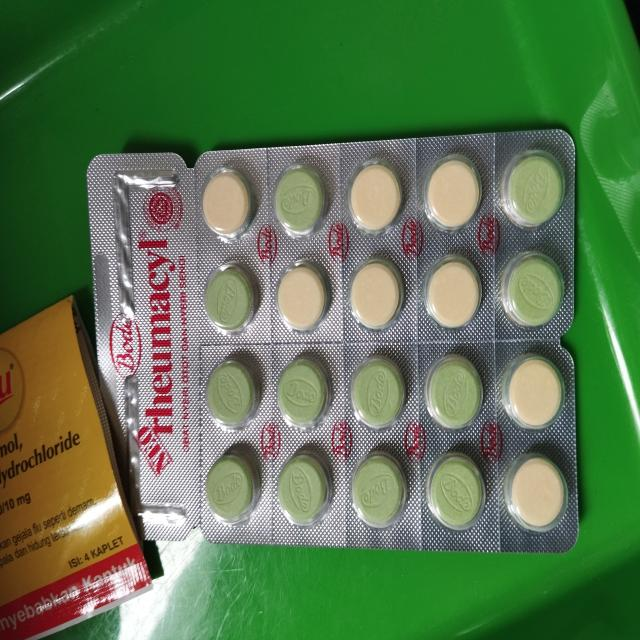B3: (89, 121, 579, 551), (0, 288, 153, 640)
